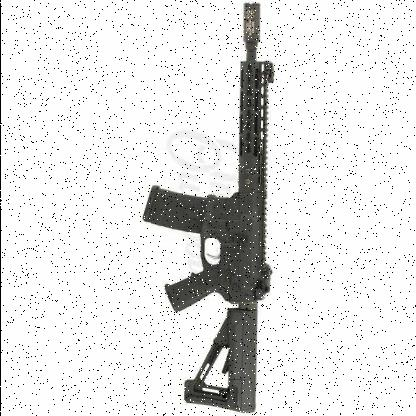rifle: (128, 0, 308, 414)
